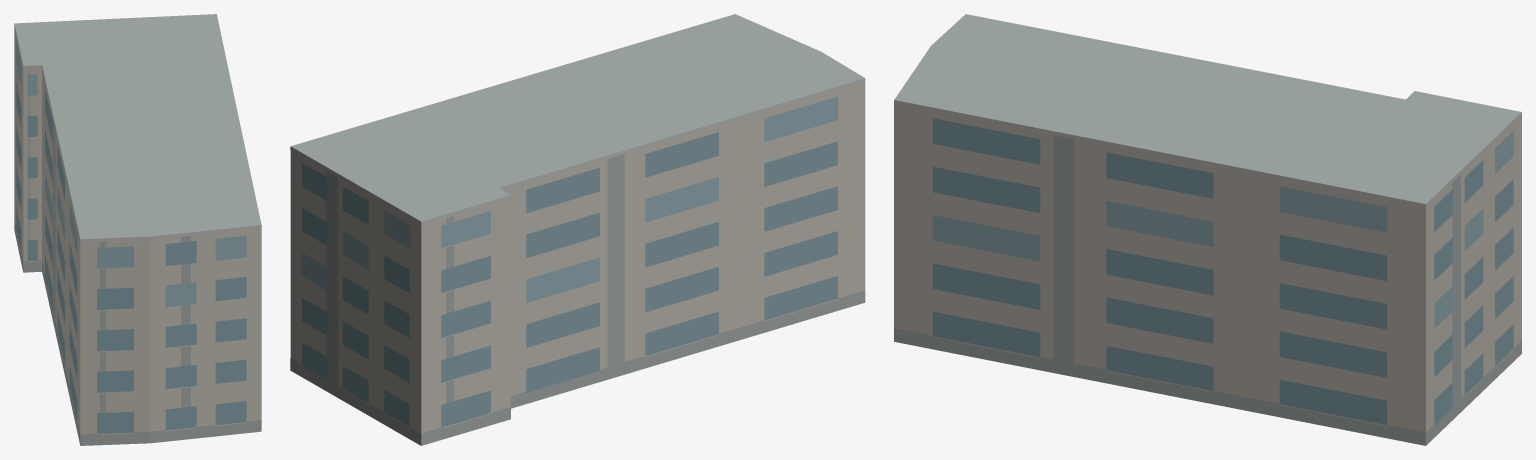
File: survey-upis-32488477.glb
The picture shows the model from 3 angles, left to right: view 1: azimuth 30°, elevation 25°; view 2: azimuth 150°, elevation 25°; view 3: azimuth 270°, elevation 25°; orthographic projection. The views are drawn at different scales.
Visible parts, largest first — view 1: survey-upis-32488477.tmp; view 2: survey-upis-32488477.tmp; view 3: survey-upis-32488477.tmp.
Boxes of the visible parts, x1=… form: survey-upis-32488477.tmp: x1=14, y1=14, x2=261, y2=445; survey-upis-32488477.tmp: x1=290, y1=14, x2=865, y2=445; survey-upis-32488477.tmp: x1=894, y1=14, x2=1521, y2=445.
Bounding box in the file's own units: 24.12 × 14.3 × 33.65.
